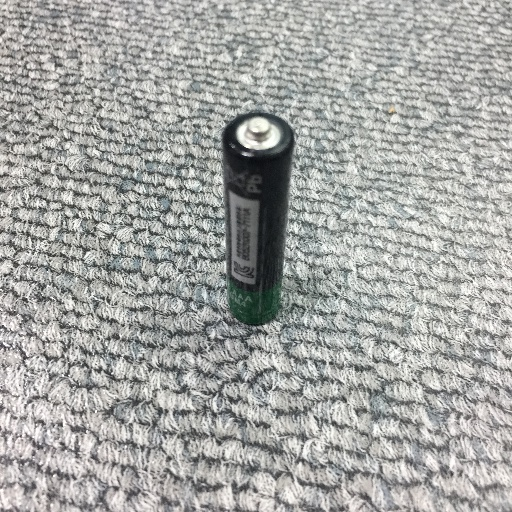Battery_0: (208, 102, 303, 335)
